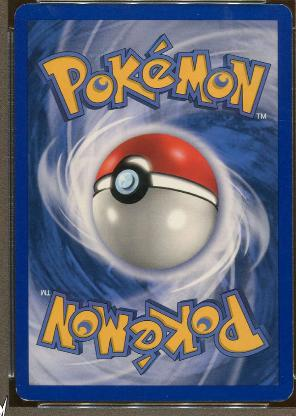Card: (12, 0, 294, 406)
Corner Wear: (14, 386, 42, 402), (265, 386, 292, 402)
